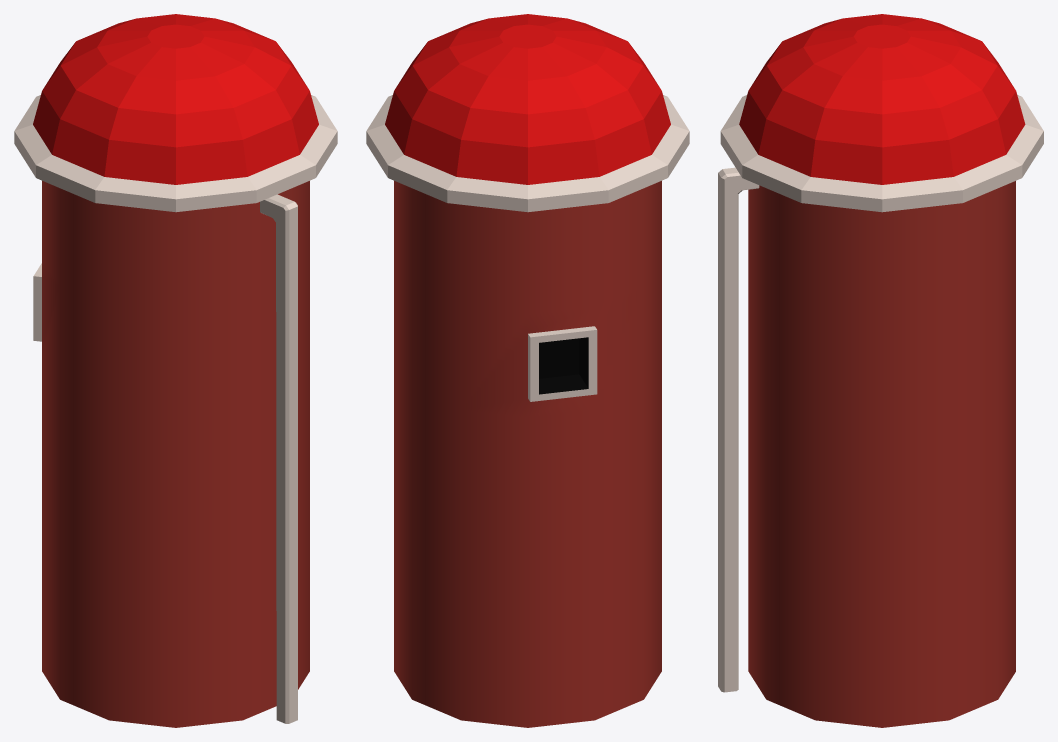
Rendered from Silo.FBX.
3 views of the same model, side by side, from view 1: azimuth 30°, elevation 25°; view 2: azimuth 150°, elevation 25°; view 3: azimuth 270°, elevation 25° (orthographic).
Parts seen in each view (by area): view 1: Tuyau; view 2: Tuyau; view 3: Tuyau.
Boxes of the visible parts, <box> form: Tuyau: <box>14,14,337,727</box>; Tuyau: <box>366,14,689,727</box>; Tuyau: <box>718,14,1043,727</box>.
Size of the model in its own units: 229 by 496 by 231.
